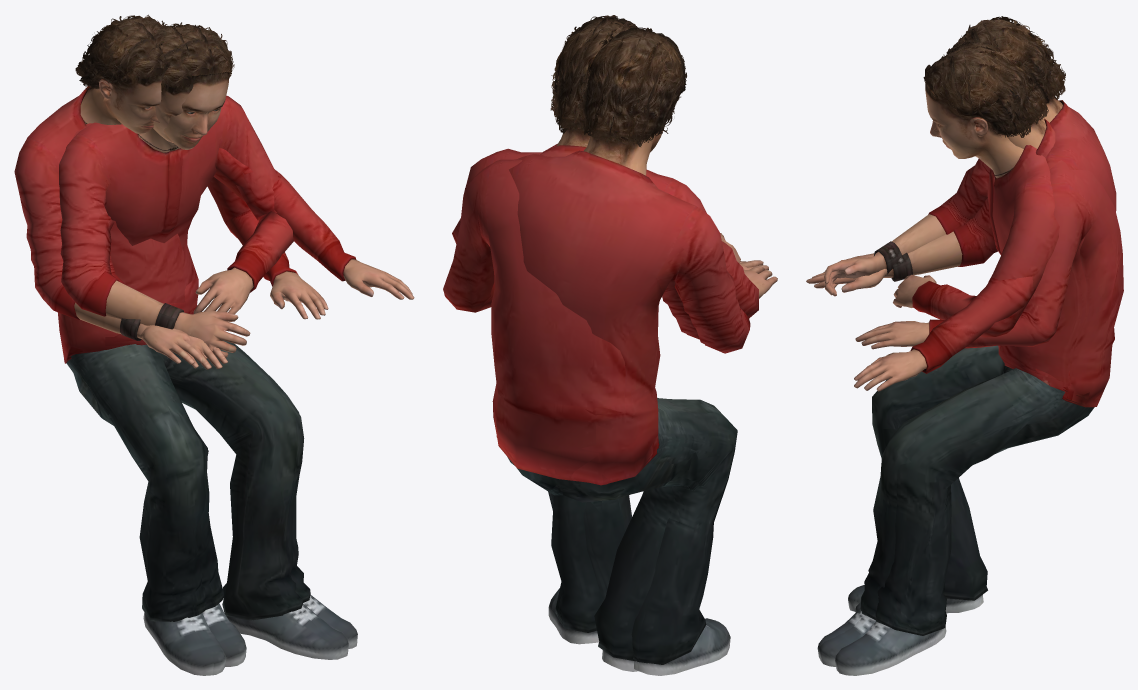
The model's file is cliente-pedro.glb.
3 renders of one model, left to right at view 1: azimuth 30°, elevation 25°; view 2: azimuth 150°, elevation 25°; view 3: azimuth 270°, elevation 25°, orthographic. The views are drawn at different scales.
Parts seen in each view (by area): view 1: pose_1, pose_0, pose_2; view 2: pose_2, pose_0, pose_1; view 3: pose_2, pose_1, pose_0.
Part boxes in pixels (box(x1,y1,x2,y2)): pose_1: box(59, 22, 348, 675); pose_0: box(62, 22, 341, 675); pose_2: box(14, 14, 414, 666); pose_2: box(452, 26, 777, 671); pose_0: box(443, 20, 771, 675); pose_1: box(461, 15, 758, 675); pose_2: box(823, 16, 1116, 675); pose_1: box(819, 46, 1098, 666); pose_0: box(806, 41, 1123, 658).
Bounding box in the file's own units: 0.7488 × 1.41 × 0.6889.
3 materials, 3 textured.
